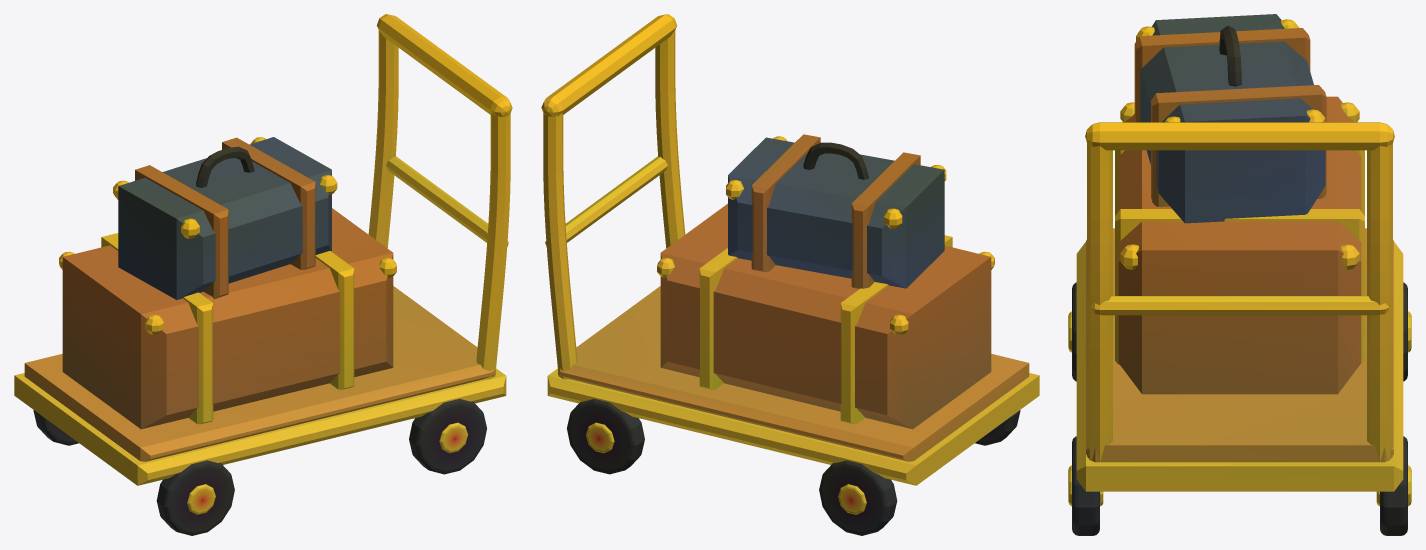
The model's file is Prop_LuggageCart.glb.
The picture shows the model from 3 angles, left to right: view 1: azimuth 30°, elevation 25°; view 2: azimuth 150°, elevation 25°; view 3: azimuth 270°, elevation 25°; orthographic projection. The views are drawn at different scales.
Parts seen in each view (by area): view 1: Prop_LuggageCart; view 2: Prop_LuggageCart; view 3: Prop_LuggageCart.
Boxes of the visible parts, left/top/right/bottom form: Prop_LuggageCart: left=14, top=14, right=512, bottom=535; Prop_LuggageCart: left=541, top=14, right=1039, bottom=535; Prop_LuggageCart: left=1068, top=14, right=1411, bottom=535.
Bounding box in the file's own units: 1.17 × 1.05 × 0.735.
